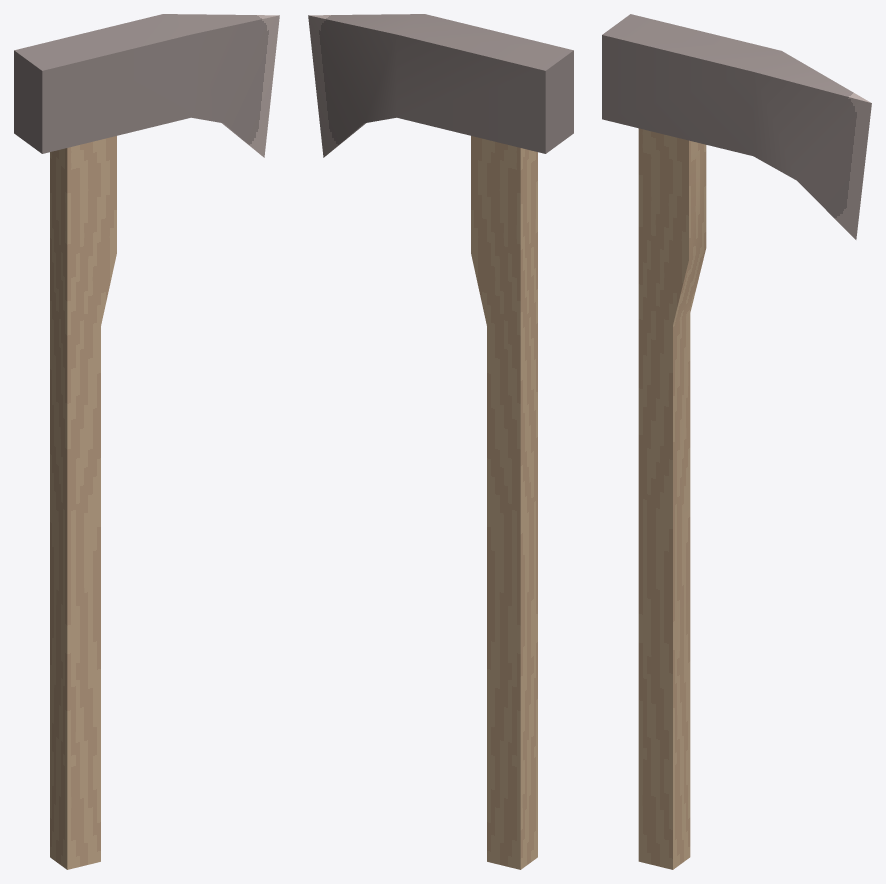
Rendered from 00db_Axe.glb.
The picture shows the model from 3 angles, left to right: view 1: azimuth 30°, elevation 25°; view 2: azimuth 150°, elevation 25°; view 3: azimuth 330°, elevation 25°; orthographic projection.
Visible parts, largest first — view 1: part_0; view 2: part_0; view 3: part_0.
Boxes of the visible parts, x1,y1,x2,y2 form: part_0: (14,14,279,869); part_0: (308,14,573,869); part_0: (602,14,871,869).
Size of the model in its own units: 0.2535 by 0.78 by 0.0491.
1 material, 1 textured.
